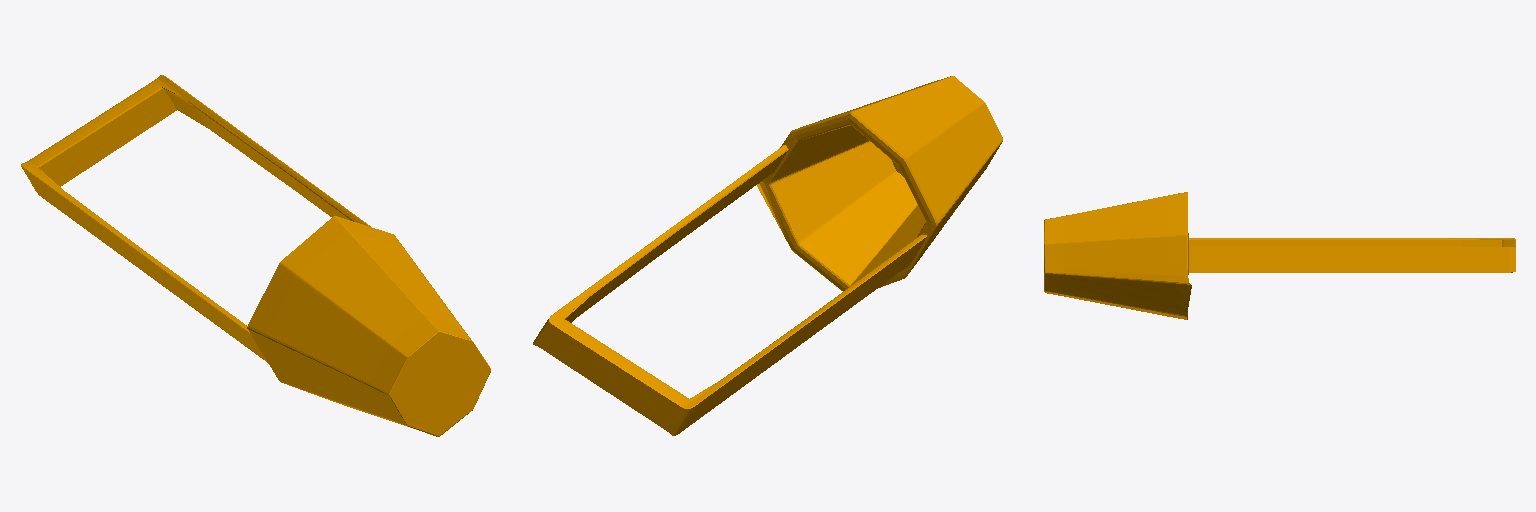
URDF robot description (297):
<?xml version="1.0" ?>
<robot name="297">
  <link name="body">
    <visual>
      <geometry>
        <mesh filename="../shapes/297.obj"/>
      </geometry>
    </visual>
    <collision>
      <geometry>
        <mesh filename="../shapes/297.obj"/>
      </geometry>
    </collision>
  </link>
</robot>

--- Render facts (derived) ---
Views: 3 orthographic renders of the robot side by side, from view 1: azimuth 30°, elevation 25°; view 2: azimuth 150°, elevation 25°; view 3: azimuth 270°, elevation 25°.
Model 297 with 1 links and 0 joints (none), rooted at body, posed every joint at zero.
Visible links, largest first — view 1: body; view 2: body; view 3: body.
Link boxes in pixels (x1,y1,x2,y2): body: [21, 75, 490, 436]; body: [533, 76, 1002, 435]; body: [1044, 192, 1515, 319].
Size in the robot's own frame: 3.09 by 10.24 by 3.07 metres.
1 mesh visuals loaded from 1 distinct referenced files (1 OBJ).